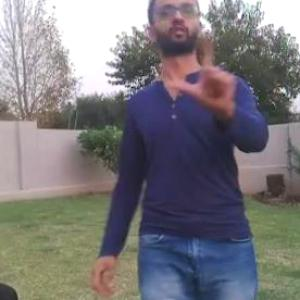land_hand: (168, 34, 244, 118)
